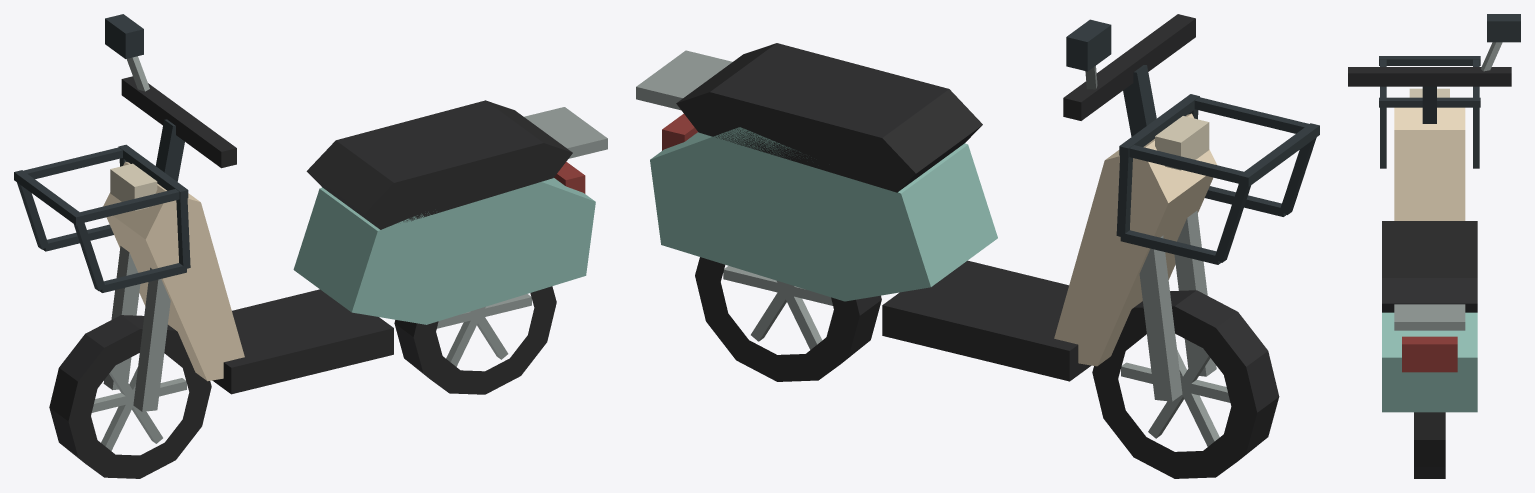
Rendered from campus_scooter_distant.glb.
The picture shows the model from 3 angles, left to right: view 1: azimuth 30°, elevation 25°; view 2: azimuth 150°, elevation 25°; view 3: azimuth 270°, elevation 25°; orthographic projection. The views are drawn at different scales.
Visible parts, largest first — view 1: Distant; view 2: Distant; view 3: Distant.
Boxes of the visible parts, box(x1,y1,x2,y2) form: Distant: box(14, 14, 607, 478); Distant: box(636, 14, 1319, 478); Distant: box(1348, 14, 1520, 478).
Size of the model in its own units: 1.66 by 1.19 by 0.56.
